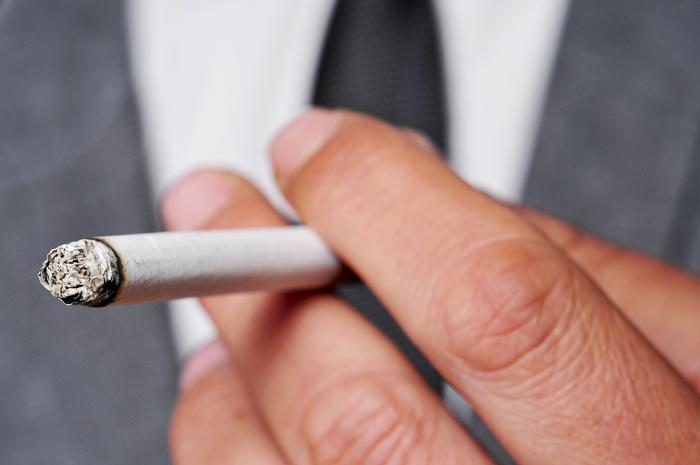cigarette: (40, 211, 363, 307)
